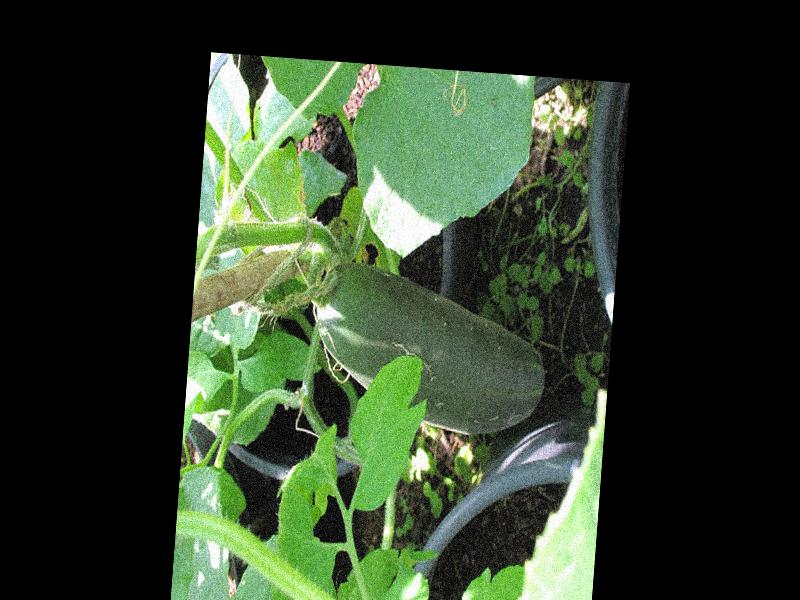Cucumber: (306, 259, 552, 438)
